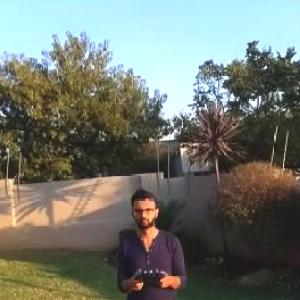follow: (113, 185, 193, 299)
